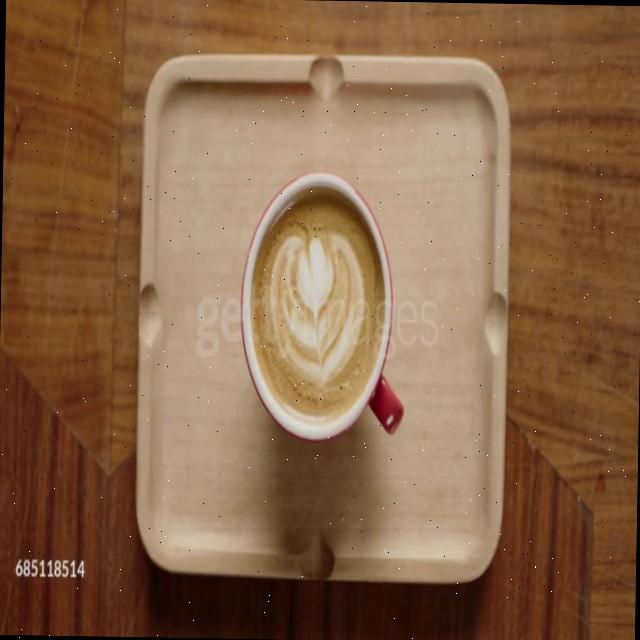cup: (238, 170, 408, 442)
tray: (134, 52, 514, 584)
